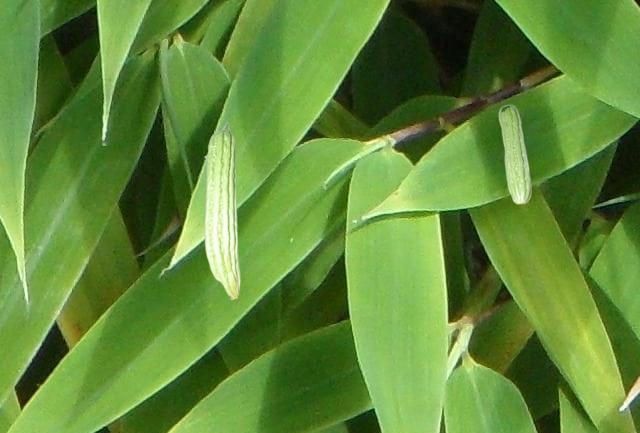ampalaya: (203, 122, 242, 300), (496, 102, 533, 206)
